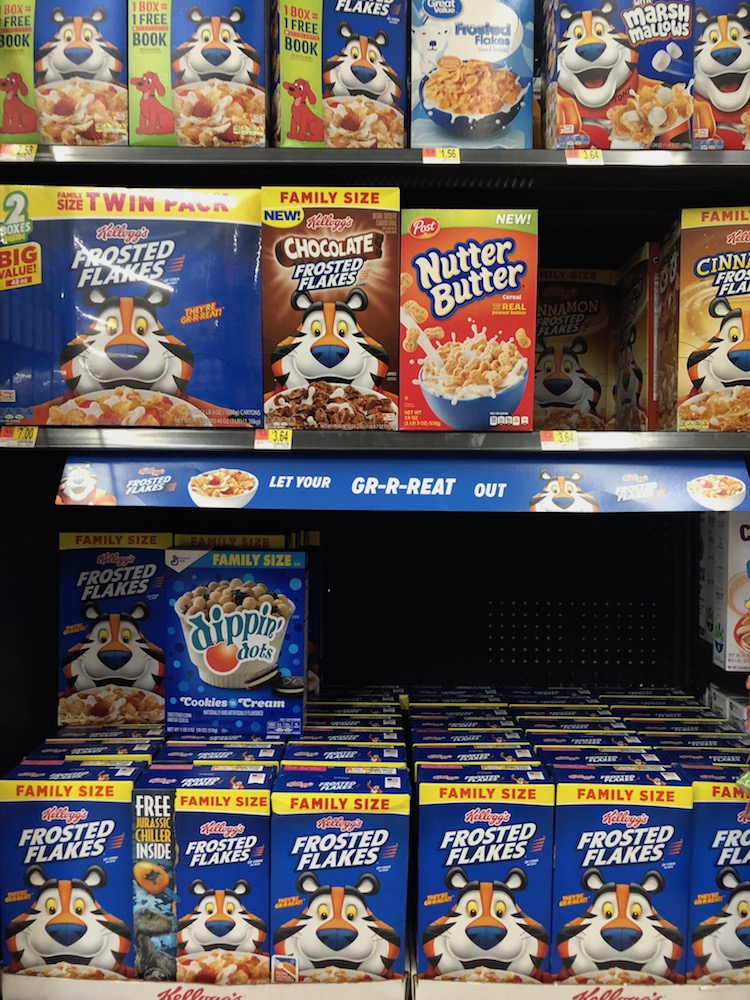Dippin Dots Cookies & Cream -568929378: (167, 552, 307, 730)
Nutter Butter-565717511: (397, 221, 546, 433)
